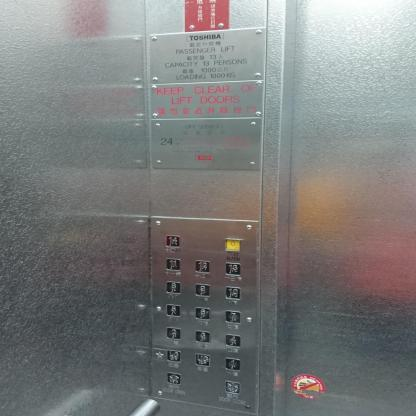1: (225, 356, 241, 372)
10: (225, 286, 241, 300)
11: (166, 257, 180, 272)
12: (195, 260, 210, 273)
13: (224, 262, 240, 276)
14: (165, 234, 181, 247)
2: (166, 326, 182, 340)
3: (195, 330, 211, 344)
4: (225, 334, 241, 348)
5: (165, 303, 181, 318)
6: (195, 306, 210, 321)
7: (225, 310, 241, 324)
8: (166, 280, 180, 295)
9: (195, 282, 210, 298)
LG: (166, 349, 181, 364)
UG: (194, 353, 210, 368)
alarm: (225, 237, 241, 252)
close: (224, 380, 240, 394)
open: (166, 371, 182, 385)
